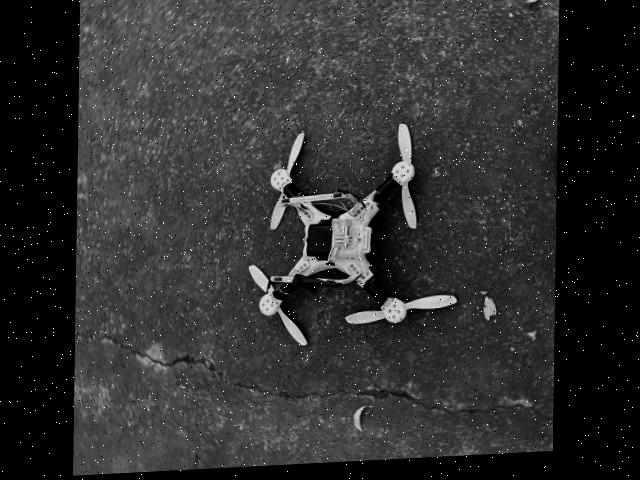drone: (207, 34, 499, 453)
